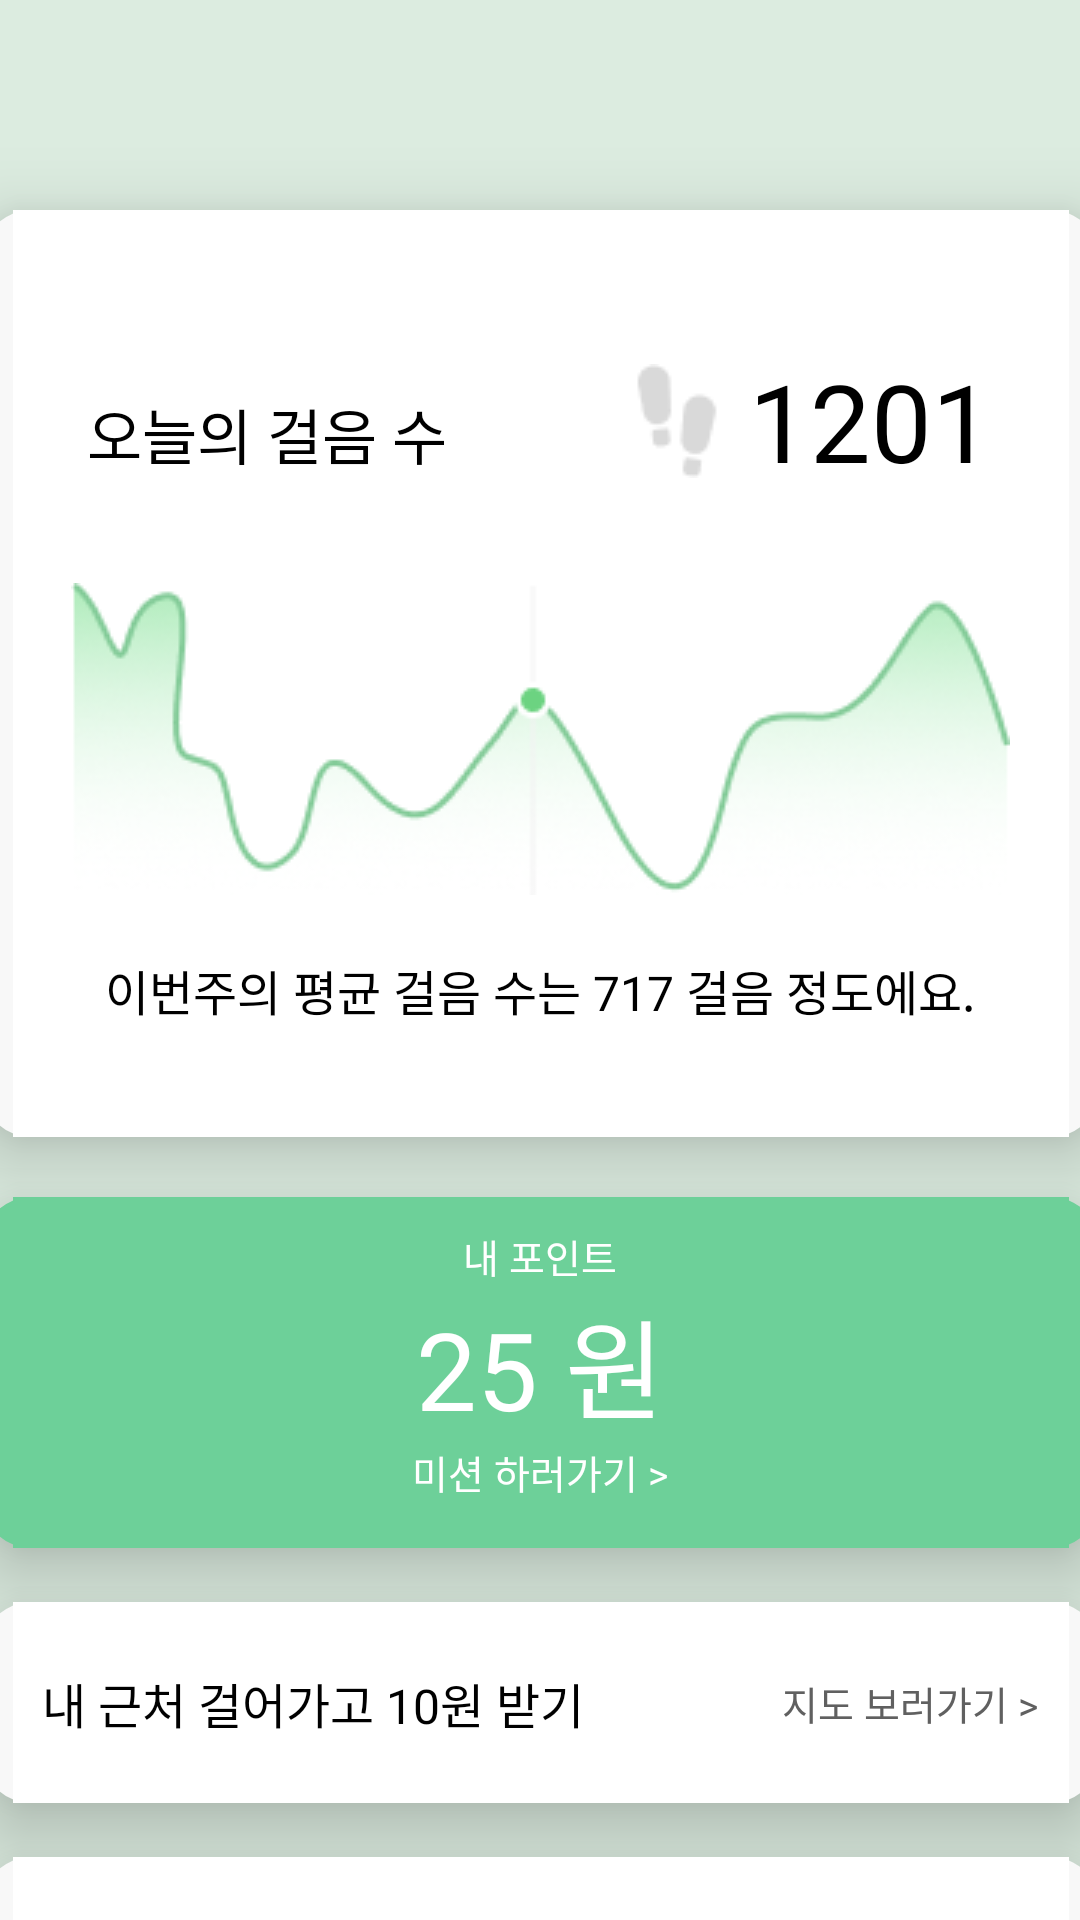

Locate icon controls on the screen. Image size 1080w x 1920h, boxes as (x1, y1, x2, y2).
footstep: (638, 367, 715, 475)
